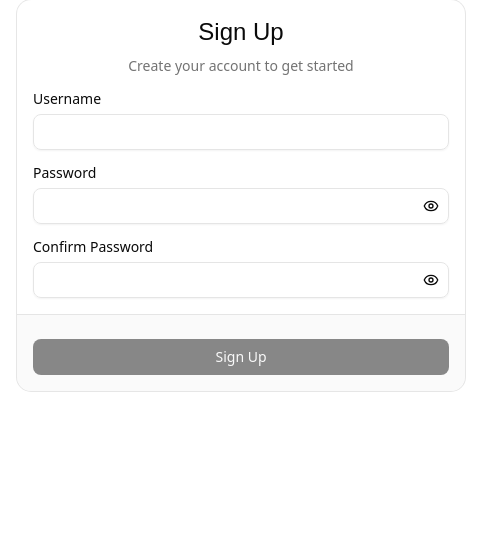
Scenario: SignUpForm › keeps the submit button disabled until the form is valid
expect the button "Sign Up" is disabled: met, box [33,339,449,375]
Type "qauser" into the field labelled "Username" at (241,132), box [33,114,449,150]
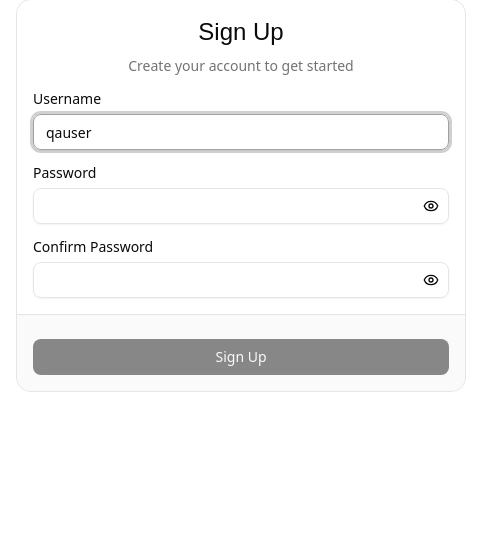
Type "Hunter2hunter" into the password field labelled "Password" at (241,206), box [33,188,449,224]
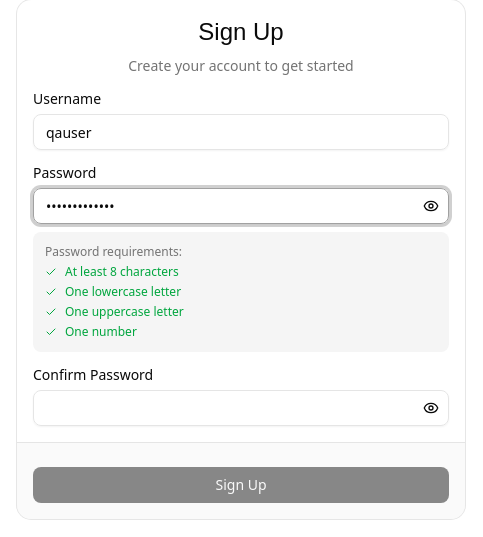
Type "Hunter2hunter" into the password field labelled "Confirm Password" at (241,408), box [33,390,449,426]
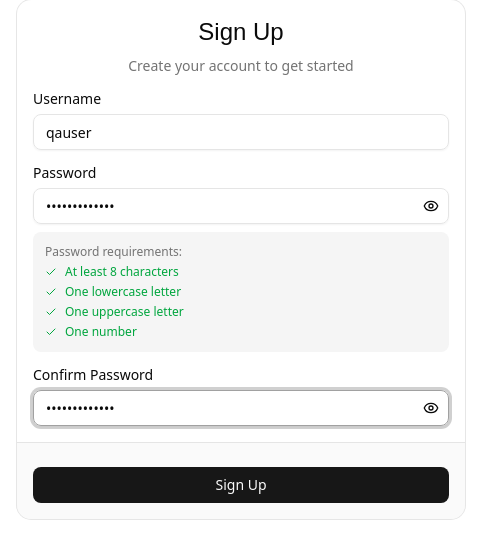
expect the button "Sign Up" is enabled: met, box [33,467,449,503]
